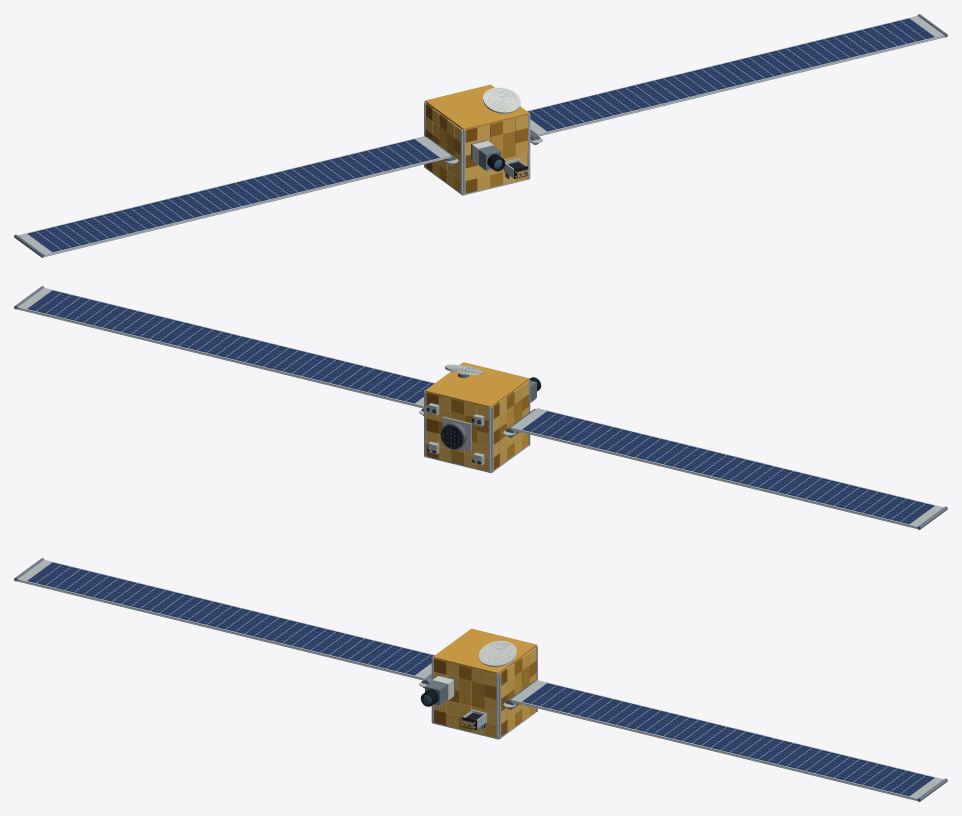
The model's file is dart_with_liciacube.glb.
The picture shows the model from 3 angles, top to bottom: view 1: azimuth 30°, elevation 25°; view 2: azimuth 150°, elevation 25°; view 3: azimuth 330°, elevation 25°; orthographic projection.
Visible parts, largest first — view 1: dart_rosa_l.deployment.blanket.cells.mesh_Indigo_solar_cells, dart_rosa_r.deployment.blanket.cells.mesh_Indigo_solar_cells, dart_rosa_l.deployment.blanket.cells.mesh_Satin_aluminum, dart_rosa_r.deployment.blanket.cells.mesh_Satin_aluminum, dart_bus.mesh_Gold_thermal_insulation, dart_bus.blanket_01.mesh_Foil_facet_4, dart_rlsa.azimuth.elevation.mesh_Pale_thermal_blanket, dart_rosa_r.deployment.blanket.mesh_Satin_aluminum, dart_rosa_l.deployment.blanket.mesh_Satin_aluminum, dart_bus.blanket_04.mesh_Foil_facet_4, dart_bus.blanket_01.mesh_Foil_facet_6; view 2: dart_rosa_l.deployment.blanket.cells.mesh_Indigo_solar_cells, dart_rosa_r.deployment.blanket.cells.mesh_Indigo_solar_cells, dart_rosa_l.deployment.blanket.cells.mesh_Satin_aluminum, dart_rosa_r.deployment.blanket.cells.mesh_Satin_aluminum, dart_bus.mesh_Gold_thermal_insulation, dart_bus.blanket_03.mesh_Foil_facet_4, dart_bus.blanket_04.mesh_Foil_facet_4, dart_rosa_r.deployment.blanket.mesh_Satin_aluminum, dart_rosa_l.deployment.blanket.mesh_Satin_aluminum, dart_bus.blanket_03.mesh_Foil_facet_6; view 3: dart_rosa_r.deployment.blanket.cells.mesh_Indigo_solar_cells, dart_rosa_l.deployment.blanket.cells.mesh_Indigo_solar_cells, dart_rosa_r.deployment.blanket.cells.mesh_Satin_aluminum, dart_rosa_l.deployment.blanket.cells.mesh_Satin_aluminum, dart_bus.mesh_Gold_thermal_insulation, dart_bus.blanket_01.mesh_Foil_facet_4, dart_rlsa.azimuth.elevation.mesh_Pale_thermal_blanket, dart_rosa_l.deployment.blanket.mesh_Satin_aluminum, dart_rosa_r.deployment.blanket.mesh_Satin_aluminum, dart_bus.blanket_02.mesh_Foil_facet_4, dart_bus.blanket_01.mesh_Foil_facet_6.
Boxes of the visible parts, bbox=[...] form: dart_rosa_l.deployment.blanket.cells.mesh_Indigo_solar_cells: bbox=[27, 139, 439, 252]; dart_rosa_r.deployment.blanket.cells.mesh_Indigo_solar_cells: bbox=[528, 18, 934, 131]; dart_rosa_l.deployment.blanket.cells.mesh_Satin_aluminum: bbox=[18, 136, 451, 255]; dart_rosa_r.deployment.blanket.cells.mesh_Satin_aluminum: bbox=[527, 16, 944, 135]; dart_bus.mesh_Gold_thermal_insulation: bbox=[425, 84, 529, 131]; dart_bus.blanket_01.mesh_Foil_facet_4: bbox=[465, 115, 527, 184]; dart_rlsa.azimuth.elevation.mesh_Pale_thermal_blanket: bbox=[482, 87, 520, 113]; dart_rosa_r.deployment.blanket.mesh_Satin_aluminum: bbox=[537, 36, 944, 136]; dart_rosa_l.deployment.blanket.mesh_Satin_aluminum: bbox=[44, 157, 451, 256]; dart_bus.blanket_04.mesh_Foil_facet_4: bbox=[425, 108, 460, 187]; dart_bus.blanket_01.mesh_Foil_facet_6: bbox=[477, 118, 527, 190]; dart_rosa_l.deployment.blanket.cells.mesh_Indigo_solar_cells: bbox=[522, 411, 934, 524]; dart_rosa_r.deployment.blanket.cells.mesh_Indigo_solar_cells: bbox=[27, 290, 433, 403]; dart_rosa_l.deployment.blanket.cells.mesh_Satin_aluminum: bbox=[510, 408, 943, 527]; dart_rosa_r.deployment.blanket.cells.mesh_Satin_aluminum: bbox=[17, 288, 434, 407]; dart_bus.mesh_Gold_thermal_insulation: bbox=[425, 362, 529, 409]; dart_bus.blanket_03.mesh_Foil_facet_4: bbox=[426, 396, 488, 468]; dart_bus.blanket_04.mesh_Foil_facet_4: bbox=[493, 381, 528, 457]; dart_rosa_r.deployment.blanket.mesh_Satin_aluminum: bbox=[17, 308, 423, 408]; dart_rosa_l.deployment.blanket.mesh_Satin_aluminum: bbox=[510, 429, 917, 528]; dart_bus.blanket_03.mesh_Foil_facet_6: bbox=[438, 402, 488, 461]; dart_rosa_r.deployment.blanket.cells.mesh_Indigo_solar_cells: bbox=[522, 683, 934, 796]; dart_rosa_l.deployment.blanket.cells.mesh_Indigo_solar_cells: bbox=[27, 562, 433, 675]; dart_rosa_r.deployment.blanket.cells.mesh_Satin_aluminum: bbox=[510, 680, 943, 799]; dart_rosa_l.deployment.blanket.cells.mesh_Satin_aluminum: bbox=[17, 560, 434, 679]; dart_bus.mesh_Gold_thermal_insulation: bbox=[432, 628, 536, 675]; dart_bus.blanket_01.mesh_Foil_facet_4: bbox=[434, 662, 496, 734]; dart_rlsa.azimuth.elevation.mesh_Pale_thermal_blanket: bbox=[479, 640, 516, 667]; dart_rosa_l.deployment.blanket.mesh_Satin_aluminum: bbox=[17, 580, 424, 680]; dart_rosa_r.deployment.blanket.mesh_Satin_aluminum: bbox=[510, 701, 917, 800]; dart_bus.blanket_02.mesh_Foil_facet_4: bbox=[501, 647, 536, 723]; dart_bus.blanket_01.mesh_Foil_facet_6: bbox=[446, 668, 496, 728].
Size of the model in its own units: 17.71 by 1.49 by 2.21.
